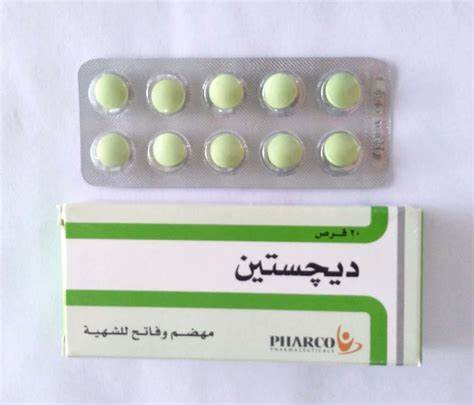Medicine: (48, 190, 437, 380)
